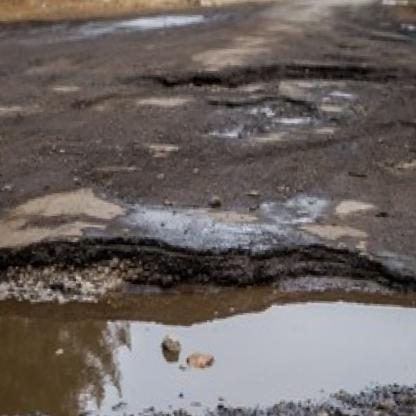pothole: (0, 223, 416, 416), (148, 52, 416, 107), (210, 92, 316, 122)
